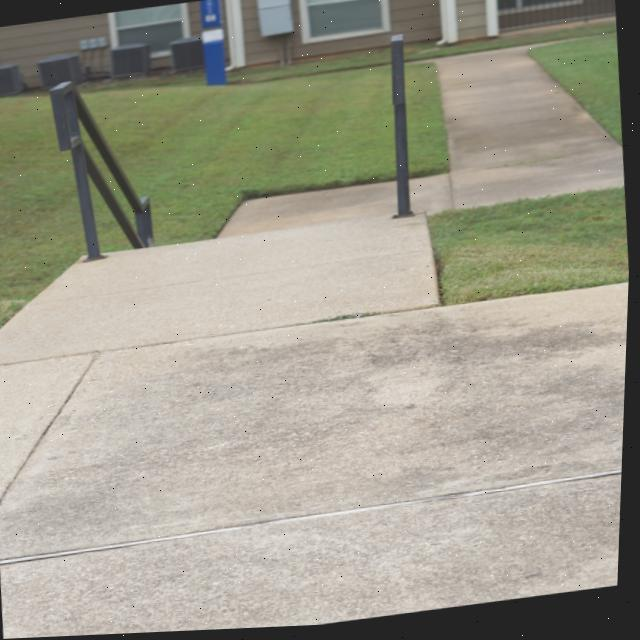Obstacle: (75, 90, 150, 217), (84, 147, 143, 249), (391, 38, 416, 222), (72, 144, 107, 261), (50, 83, 73, 151), (136, 198, 155, 248), (130, 237, 150, 249)
Sidewalk: (0, 220, 631, 639), (436, 52, 621, 181), (415, 153, 626, 219), (221, 186, 398, 239), (411, 178, 454, 218)
